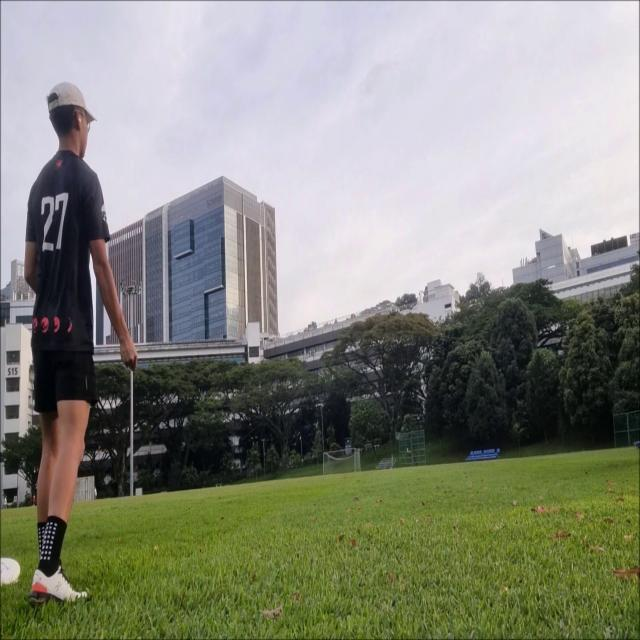disc: (547, 265, 556, 269)
